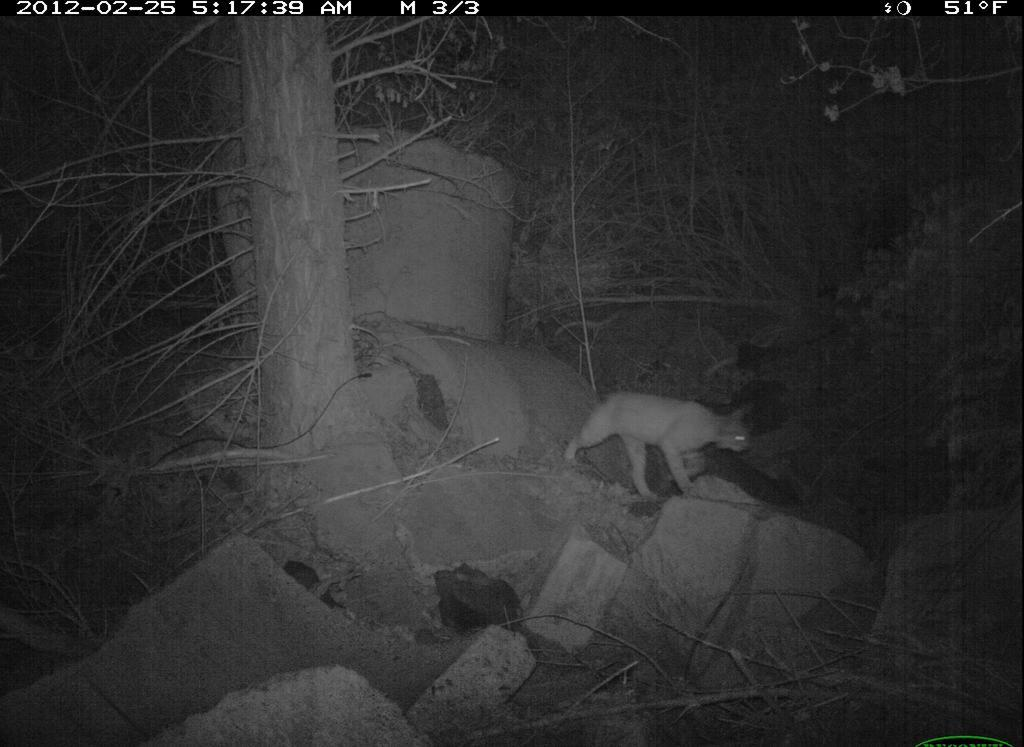bobcat: (559, 381, 760, 510)
